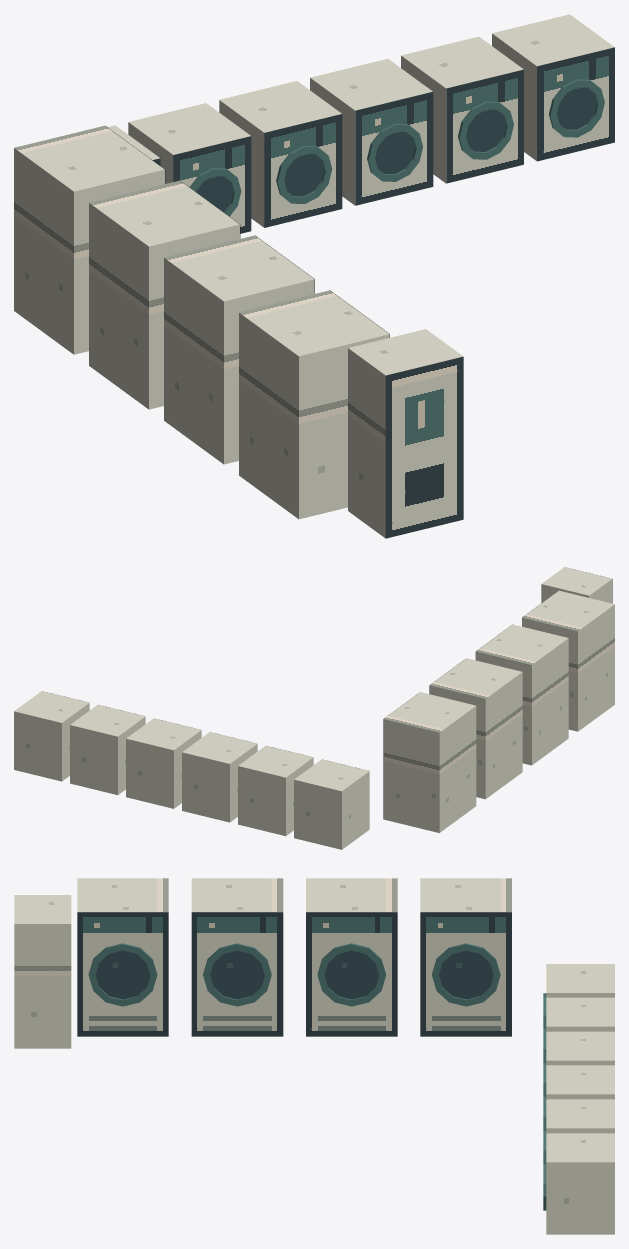
The model's file is laundry-fixtures.glb.
3 views of the same model, one above another, from view 1: azimuth 30°, elevation 25°; view 2: azimuth 150°, elevation 25°; view 3: azimuth 270°, elevation 25° (orthographic). The views are drawn at different scales.
Parts seen in each view (by area): view 1: dryer_01__detail_enamel, dryer_04__detail_enamel, dryer_02__detail_enamel, dryer_03__detail_enamel, change_unit__detail_panels, change_unit__detail_enamel, washer_05__detail_enamel, washer_03__detail_enamel, washer_04__detail_enamel, washer_06__detail_enamel, washer_03__detail_panels, washer_04__detail_panels (+14 smaller); view 2: dryer_04__detail_enamel, dryer_03__detail_enamel, dryer_02__detail_enamel, dryer_01__detail_enamel, washer_01__detail_enamel, washer_04__detail_enamel, washer_02__detail_enamel, washer_03__detail_enamel, washer_05__detail_enamel, washer_06__detail_enamel, change_unit__detail_enamel; view 3: change_unit__detail_enamel, dryer_02__detail_panels, dryer_04__detail_panels, dryer_03__detail_panels, dryer_01__detail_panels, washer_06__detail_enamel, dryer_02__detail_enamel, dryer_01__detail_enamel, dryer_03__detail_enamel, dryer_04__detail_enamel, washer_02__detail_enamel, washer_03__detail_enamel (+11 smaller).
Part boxes in pixels (x1,y1,x2,y2): dryer_01__detail_enamel: (239, 290, 389, 519); dryer_04__detail_enamel: (14, 125, 164, 354); dryer_02__detail_enamel: (164, 235, 314, 464); dryer_03__detail_enamel: (89, 180, 239, 409); change_unit__detail_panels: (385, 356, 463, 538); change_unit__detail_enamel: (348, 329, 462, 538); washer_05__detail_enamel: (401, 36, 523, 183); washer_03__detail_enamel: (219, 81, 341, 227); washer_04__detail_enamel: (310, 58, 432, 205); washer_06__detail_enamel: (492, 14, 614, 160); washer_03__detail_panels: (264, 114, 342, 227); washer_04__detail_panels: (355, 92, 433, 205); dryer_04__detail_enamel: (383, 692, 476, 832); dryer_03__detail_enamel: (429, 658, 522, 799); dryer_02__detail_enamel: (476, 624, 568, 765); dryer_01__detail_enamel: (522, 590, 614, 731); washer_01__detail_enamel: (294, 759, 369, 849); washer_04__detail_enamel: (126, 718, 201, 808); washer_02__detail_enamel: (238, 745, 313, 836); washer_03__detail_enamel: (182, 732, 257, 822); washer_05__detail_enamel: (70, 705, 145, 795); washer_06__detail_enamel: (14, 691, 89, 781); change_unit__detail_enamel: (541, 567, 612, 603); change_unit__detail_enamel: (14, 895, 71, 1048); dryer_02__detail_panels: (191, 912, 283, 1036); dryer_04__detail_panels: (420, 912, 511, 1036); dryer_03__detail_panels: (306, 912, 397, 1036); dryer_01__detail_panels: (77, 912, 168, 1036); washer_06__detail_enamel: (546, 1133, 614, 1234); dryer_02__detail_enamel: (191, 878, 283, 912); dryer_01__detail_enamel: (77, 878, 168, 912); dryer_03__detail_enamel: (306, 878, 397, 912); dryer_04__detail_enamel: (420, 878, 511, 912); washer_02__detail_enamel: (546, 997, 614, 1031); washer_03__detail_enamel: (546, 1031, 614, 1065).
Size of what is drawn, in the model's own units: 7.45 by 1.86 by 8.15.
Materials: 4 (4 with a texture image).
